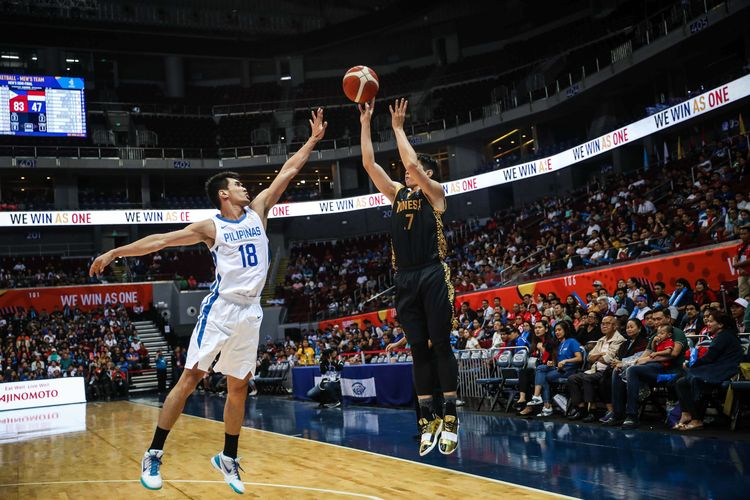Jumpshot: (342, 65, 418, 175)
